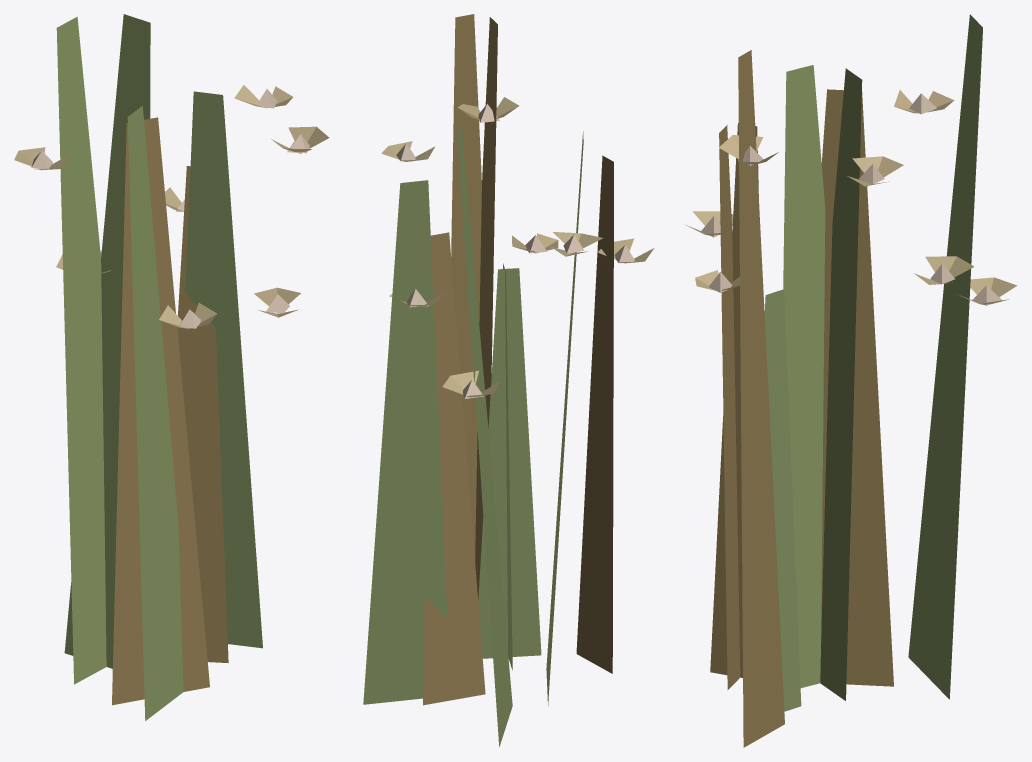
File: cao.luwei@flowering__autumn.glb
3 renders of one model, left to right at view 1: azimuth 30°, elevation 25°; view 2: azimuth 150°, elevation 25°; view 3: azimuth 270°, elevation 25°, orthographic. The views are drawn at different scales.
Visible parts, largest first — view 1: cao.luwei@flowering__autumn; view 2: cao.luwei@flowering__autumn; view 3: cao.luwei@flowering__autumn.
Part boxes in pixels (<box>): cao.luwei@flowering__autumn: <box>14,14,329,720</box>; cao.luwei@flowering__autumn: <box>363,14,653,746</box>; cao.luwei@flowering__autumn: <box>686,14,1017,747</box>.
Size of the model in its own units: 0.9454 by 2.41 by 1.08.
